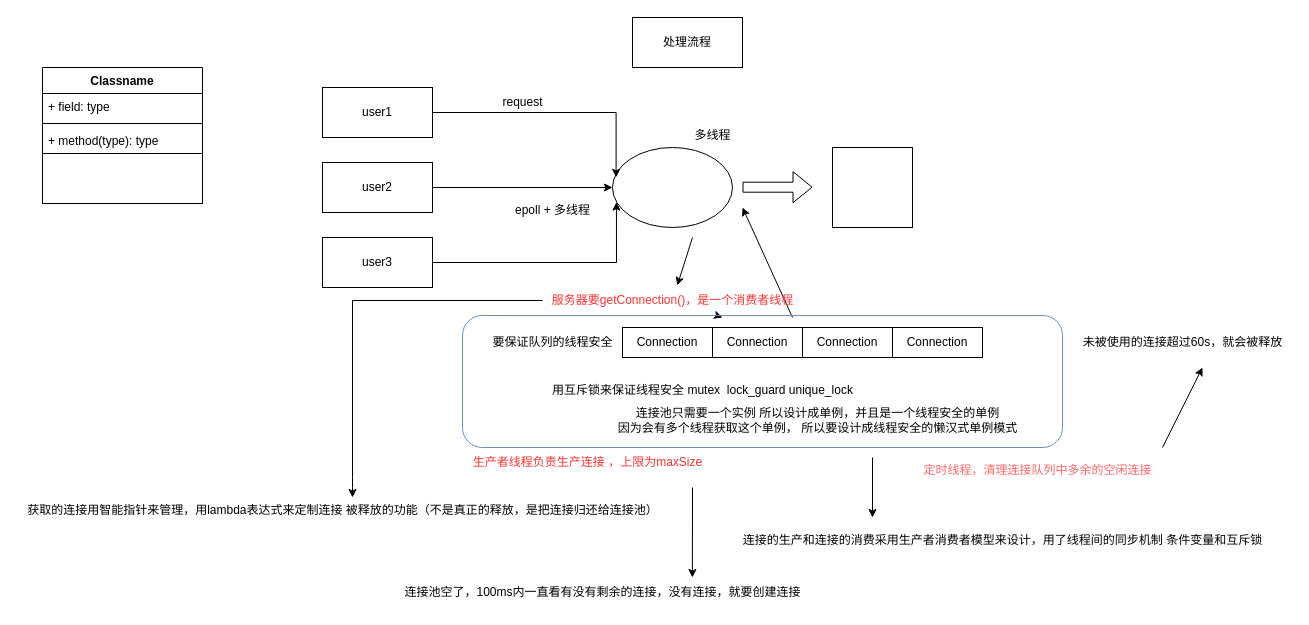
Image size: 1309x625. Some labels were removed from this diagram. The shapes that lost their labels are listed below. From the top down, each one's centre as x and y in pixels, then its label:
point (122, 178): Object
point (672, 187): 服务器server Mysql Client
point (872, 187): mysql Server
